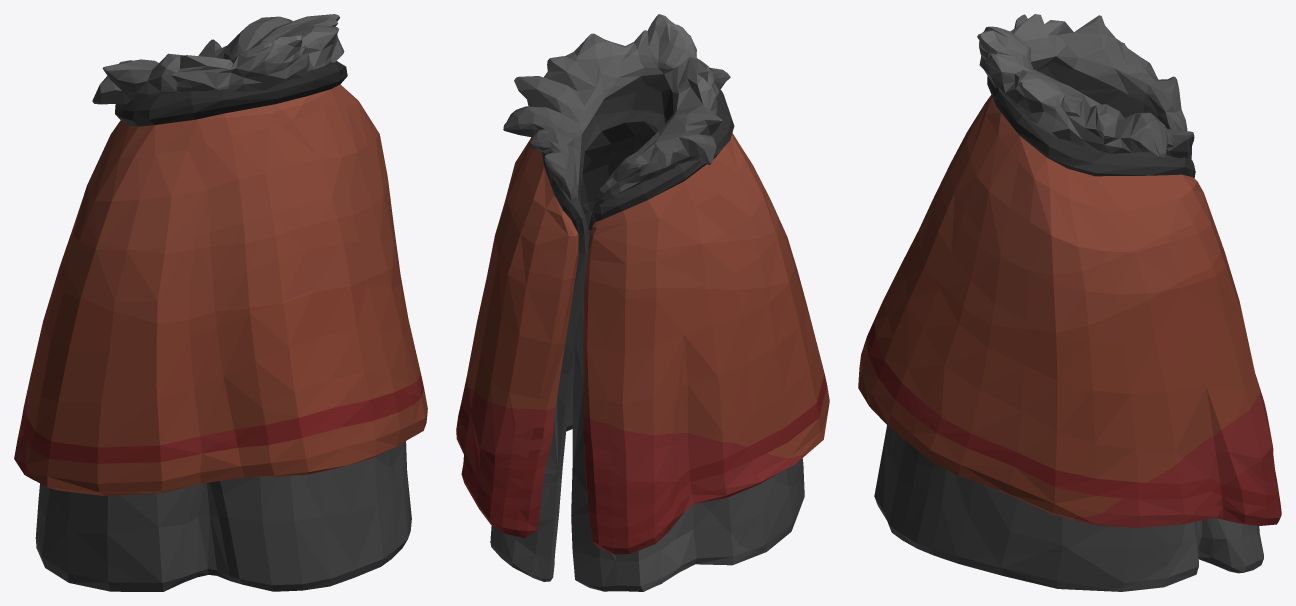
The model's file is CharSkyKid_Wing_AP31RedCape.glb.
The picture shows the model from 3 angles, left to right: view 1: azimuth 30°, elevation 25°; view 2: azimuth 150°, elevation 25°; view 3: azimuth 270°, elevation 25°; orthographic projection. The views are drawn at different scales.
Visible parts, largest first — view 1: CharSkyKid_Wing_AP31RedCape; view 2: CharSkyKid_Wing_AP31RedCape; view 3: CharSkyKid_Wing_AP31RedCape.
Boxes of the visible parts, x1=… form: CharSkyKid_Wing_AP31RedCape: x1=14, y1=14, x2=427, y2=591; CharSkyKid_Wing_AP31RedCape: x1=456, y1=14, x2=829, y2=591; CharSkyKid_Wing_AP31RedCape: x1=858, y1=14, x2=1281, y2=591.
Bounding box in the file's own units: 5.24 × 7.57 × 5.45.
1 material, 1 textured.
